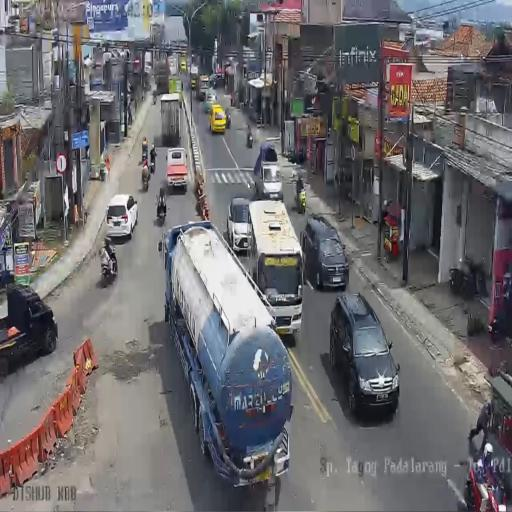3: (160, 92, 182, 144), (198, 74, 210, 100), (168, 53, 178, 78), (190, 65, 199, 89), (180, 53, 187, 72)
car: (330, 292, 398, 416), (0, 286, 58, 374), (302, 216, 347, 291), (227, 195, 252, 255), (106, 193, 138, 239), (255, 160, 283, 202), (166, 147, 188, 192), (208, 103, 227, 134), (209, 73, 219, 88)
truck: (99, 241, 117, 282)
